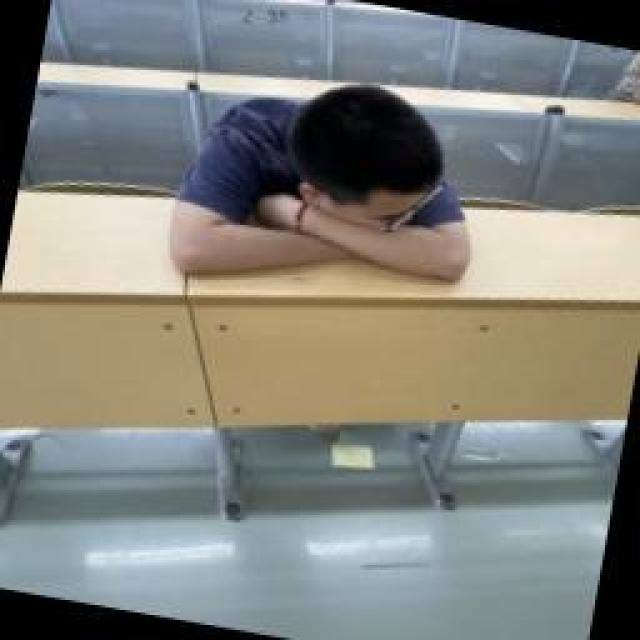sleep: (170, 57, 495, 305)
